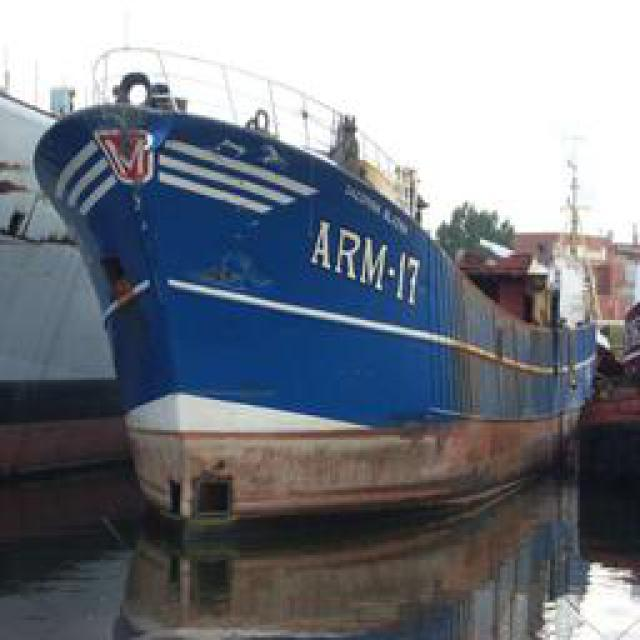Ship: (50, 93, 598, 551)
